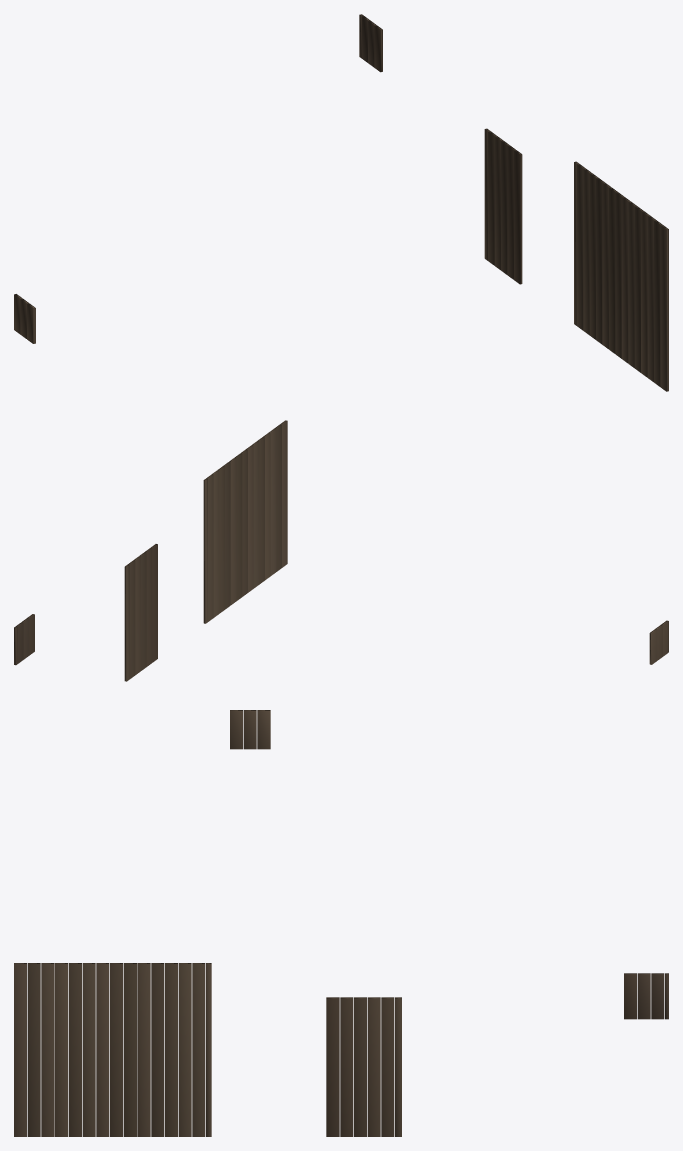
The model's file is SM_BarnWood_17.glb.
3 renders of one model, top to bottom at view 1: azimuth 30°, elevation 25°; view 2: azimuth 150°, elevation 25°; view 3: azimuth 270°, elevation 25°, orthographic. The views are drawn at different scales.
Parts seen in each view (by area): view 1: SM_BarnWood_17; view 2: SM_BarnWood_17; view 3: SM_BarnWood_17.
Boxes of the visible parts, bbox=[...] form: SM_BarnWood_17: bbox=[14, 14, 668, 391]; SM_BarnWood_17: bbox=[14, 420, 668, 681]; SM_BarnWood_17: bbox=[14, 710, 668, 1136].
Bounding box in the file's own units: 8.64 × 2.5 × 8.59.
